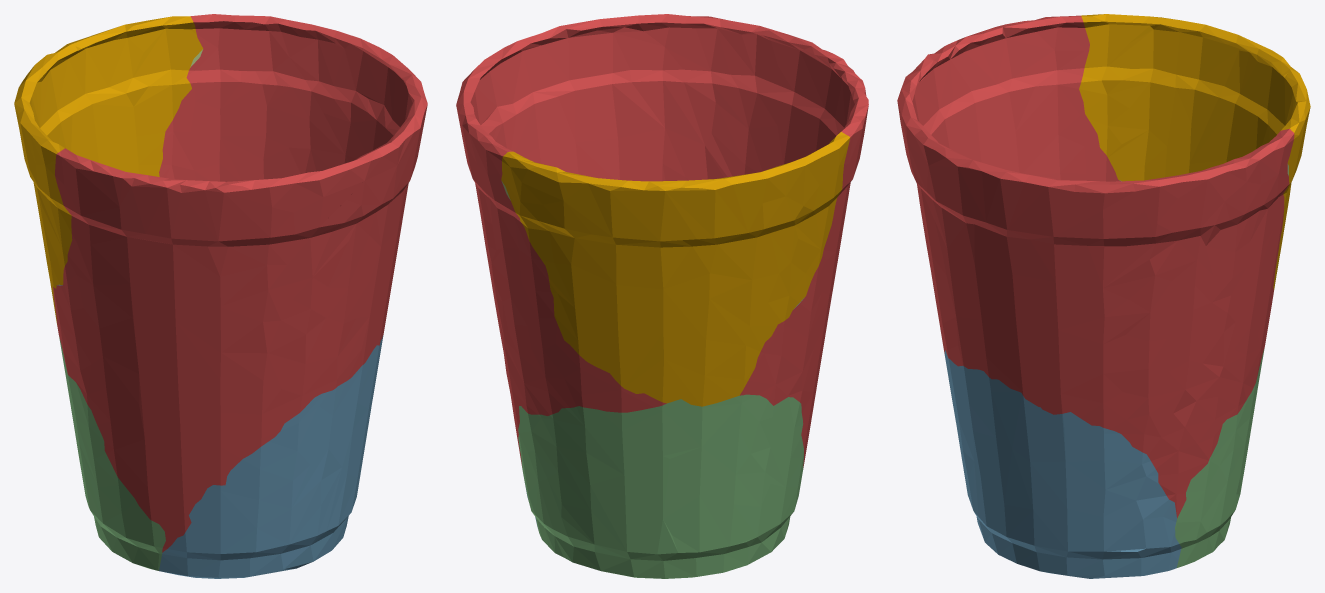
Rendered from mode_5_6pcs.glb.
The picture shows the model from 3 angles, left to right: view 1: azimuth 30°, elevation 25°; view 2: azimuth 150°, elevation 25°; view 3: azimuth 270°, elevation 25°; orthographic projection.
Parts seen in each view (by area): view 1: piece_1.obj, piece_2.obj, piece_0.obj, piece_3.obj; view 2: piece_1.obj, piece_0.obj, piece_3.obj; view 3: piece_1.obj, piece_2.obj, piece_0.obj, piece_3.obj.
Part boxes in pixels (x1,y1,x2,y2): piece_1.obj: [53, 14, 427, 552]; piece_2.obj: [159, 335, 383, 578]; piece_0.obj: [14, 16, 203, 324]; piece_3.obj: [59, 336, 165, 570]; piece_1.obj: [456, 14, 868, 467]; piece_0.obj: [501, 131, 850, 406]; piece_3.obj: [518, 394, 803, 578]; piece_1.obj: [897, 15, 1294, 518]; piece_2.obj: [944, 350, 1181, 578]; piece_0.obj: [1079, 14, 1310, 289]; piece_3.obj: [1175, 349, 1264, 567].
Size of the model in its own units: 0.8678 by 1 by 0.8681.
